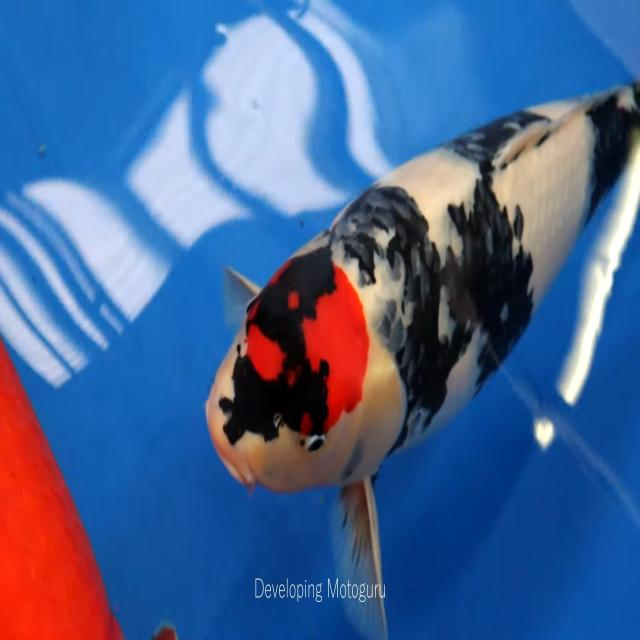Showa: (204, 76, 639, 637)
